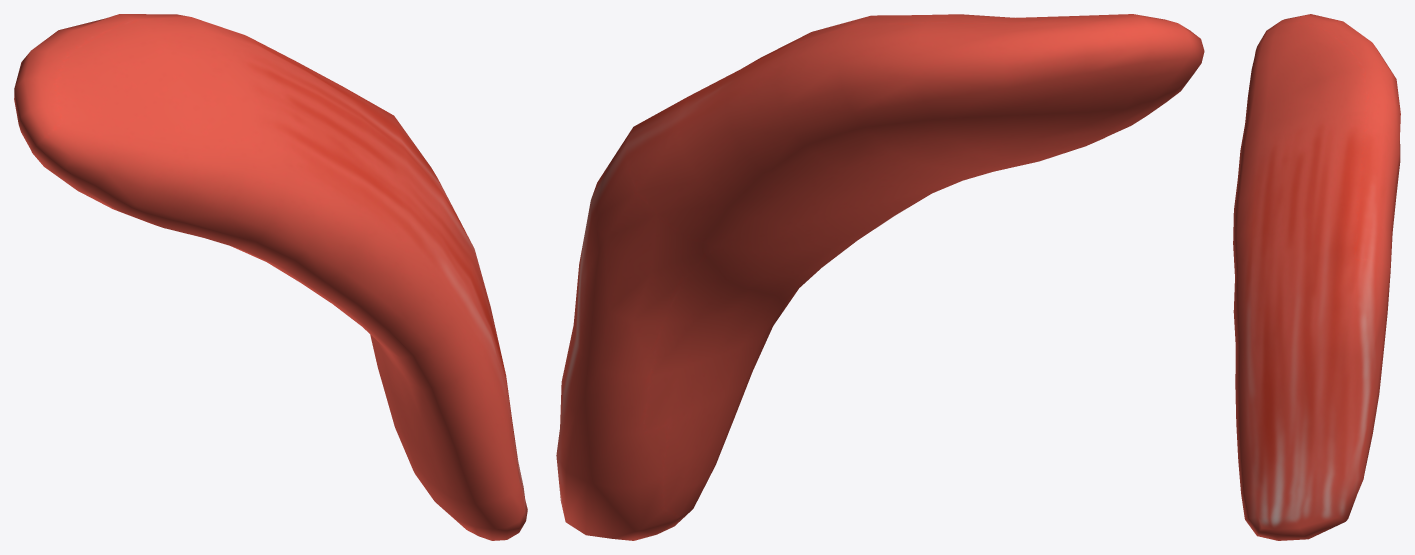
Rendered from Auricular 2.glb.
The picture shows the model from 3 angles, left to right: view 1: azimuth 30°, elevation 25°; view 2: azimuth 150°, elevation 25°; view 3: azimuth 270°, elevation 25°; orthographic projection. The views are drawn at different scales.
Parts seen in each view (by area): view 1: Auricular 2.glb; view 2: Auricular 2.glb; view 3: Auricular 2.glb.
Boxes of the visible parts, left/top/right/bottom form: Auricular 2.glb: left=14, top=14, right=527, bottom=540; Auricular 2.glb: left=556, top=14, right=1204, bottom=540; Auricular 2.glb: left=1233, top=14, right=1400, bottom=540.
Size of the model in its own units: 0.0534 by 0.0565 by 0.0226.
Materials: 1 (1 with a texture image).
